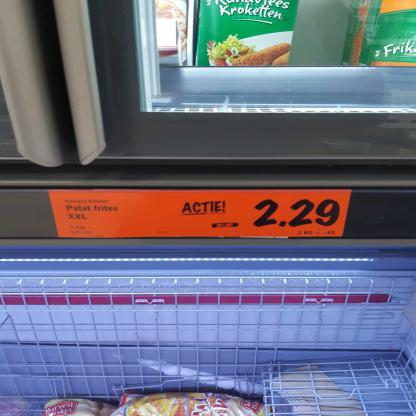prtg: (49, 190, 352, 239)
